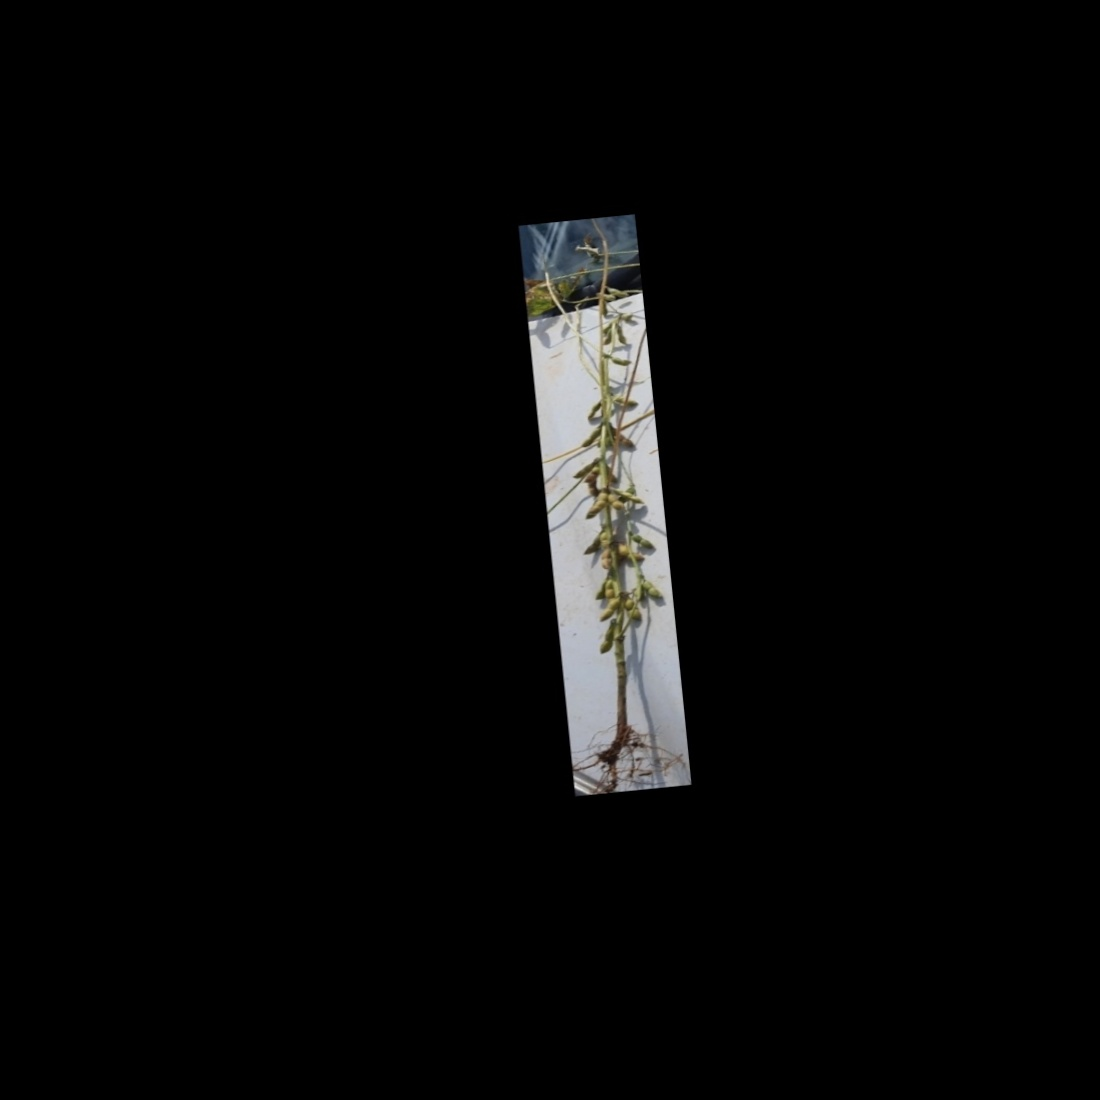pod: (594, 623, 618, 656), (612, 485, 647, 508), (616, 541, 645, 566), (638, 576, 665, 601), (596, 598, 621, 624), (628, 531, 655, 551), (624, 596, 642, 622), (612, 393, 640, 408), (605, 284, 629, 300), (584, 401, 602, 421), (606, 492, 624, 512), (599, 546, 612, 572), (613, 324, 629, 347), (603, 578, 617, 599), (610, 355, 633, 367)
soy: (527, 241, 682, 771)
